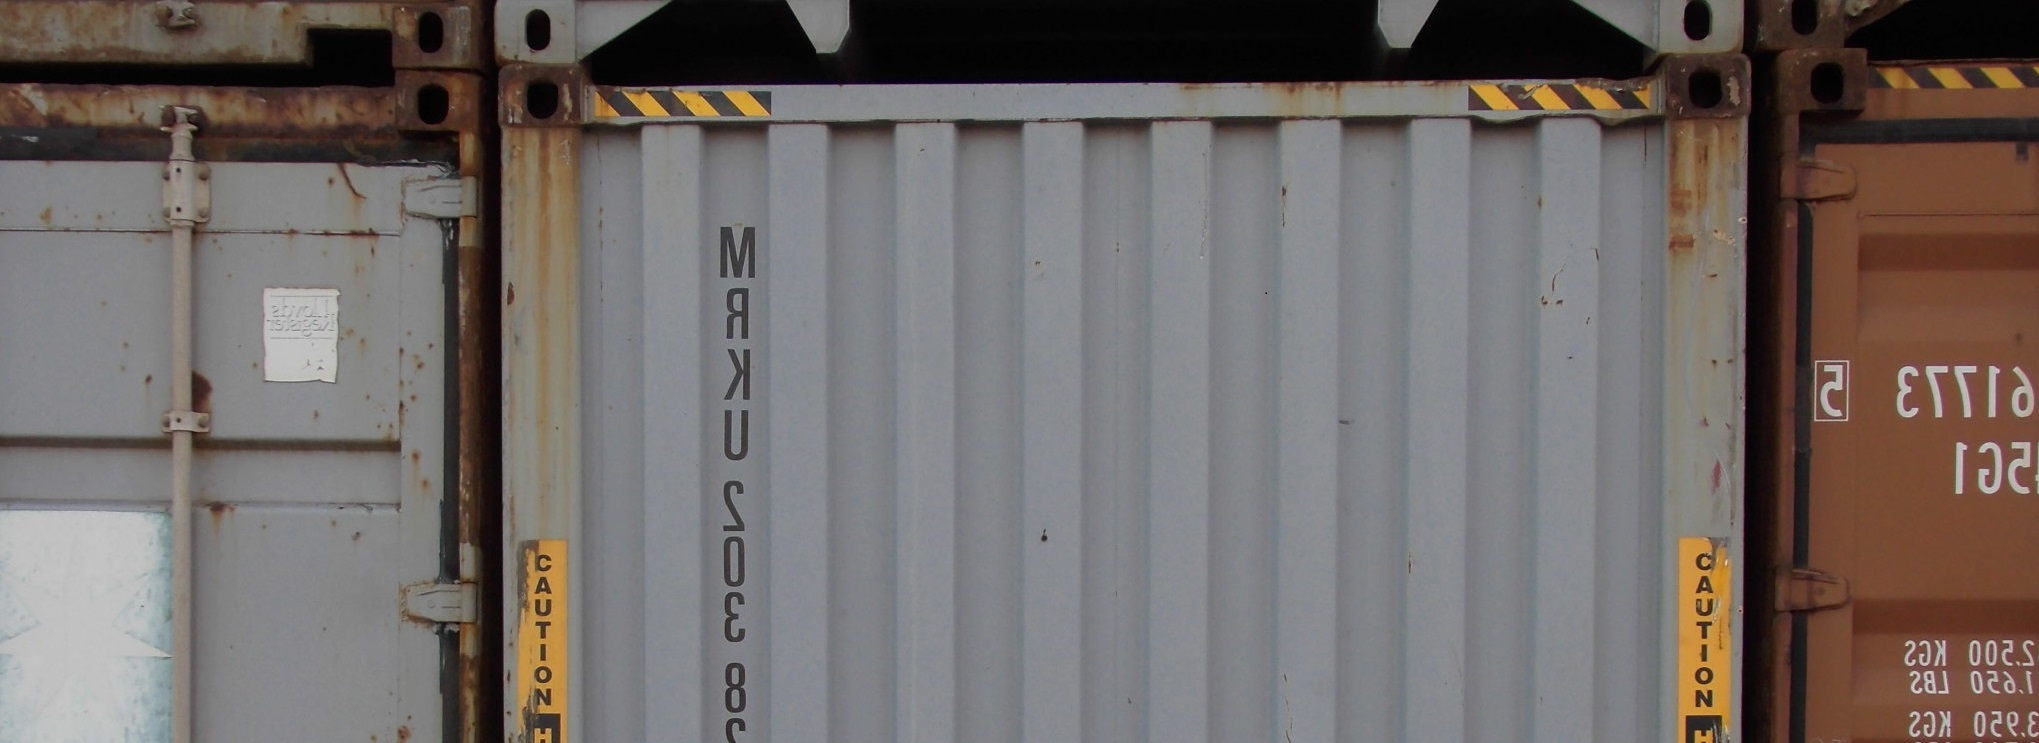container_no_door: (512, 68, 1746, 742)
